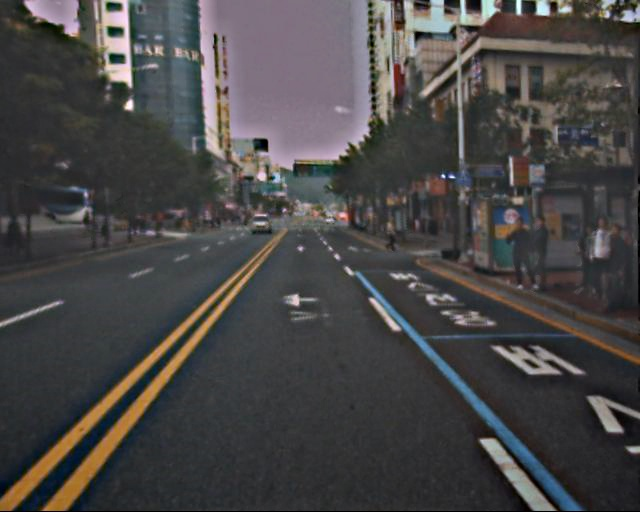person: (577, 221, 628, 309), (504, 217, 539, 292), (524, 217, 558, 293), (385, 214, 402, 253)
